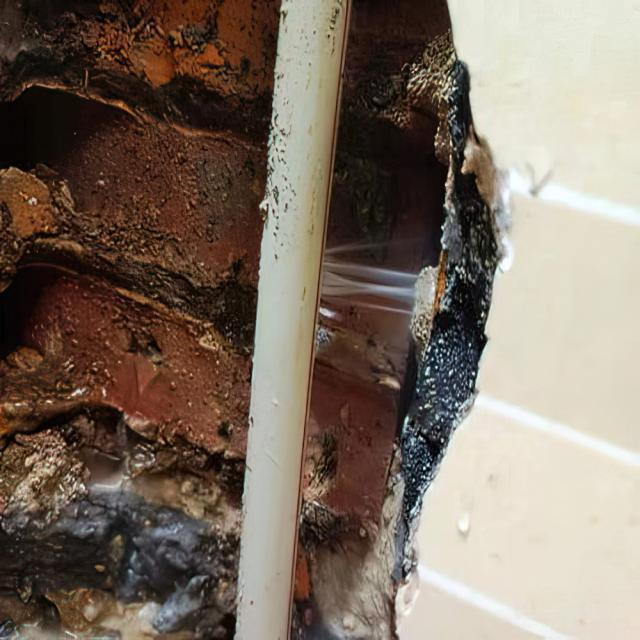pipe burst: (307, 241, 420, 328)
